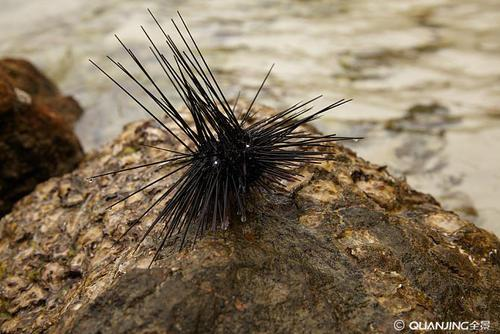urchin: (101, 29, 374, 254)
